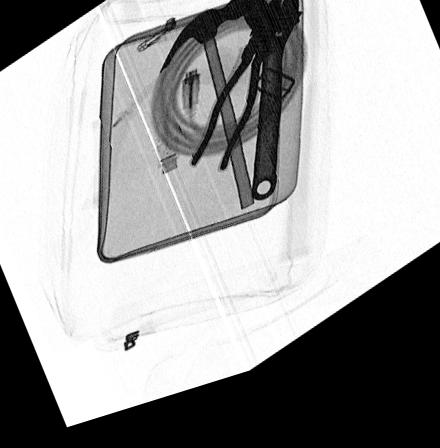Hammer: (160, 5, 255, 221)
Pliers: (186, 5, 277, 186)
Wrench: (243, 0, 303, 218)
